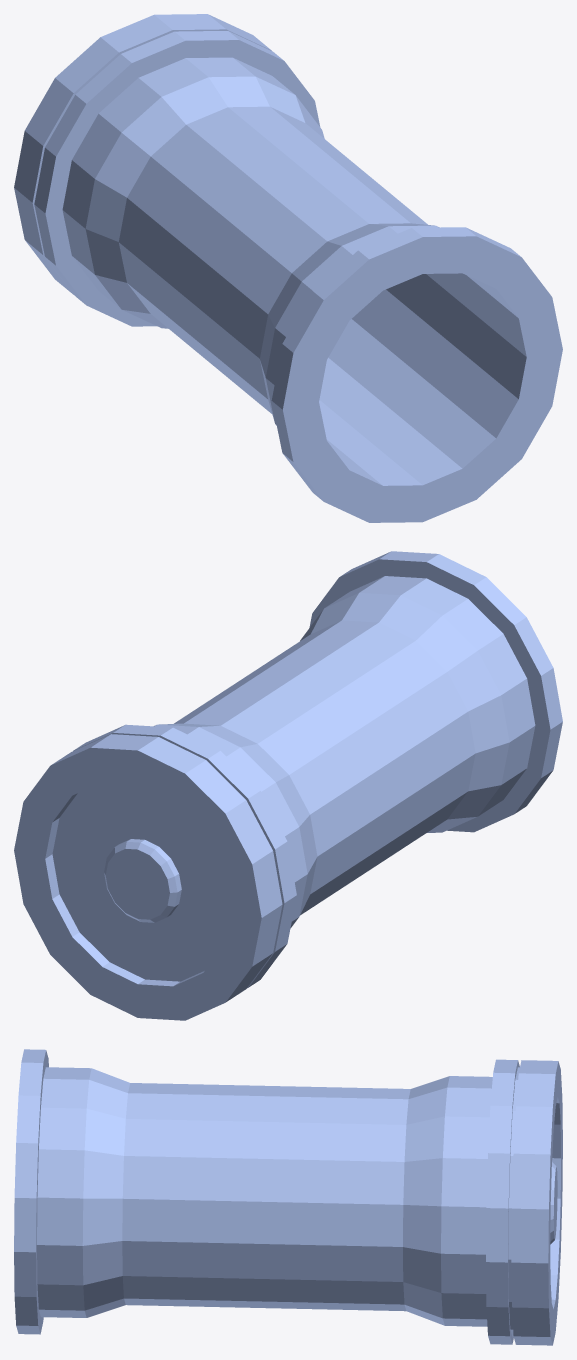
The model's file is Pipeline_oneCover.fbx.
The picture shows the model from 3 angles, top to bottom: view 1: azimuth 30°, elevation 25°; view 2: azimuth 150°, elevation 25°; view 3: azimuth 270°, elevation 25°; orthographic projection. The views are drawn at different scales.
Visible parts, largest first — view 1: 柱体.031; view 2: 柱体.031; view 3: 柱体.031.
Boxes of the visible parts, x1,y1,x2,y2 form: 柱体.031: (14, 14, 562, 522); 柱体.031: (14, 551, 562, 1020); 柱体.031: (14, 1049, 562, 1345).
Bounding box in the file's own units: 249 × 439 × 228.
